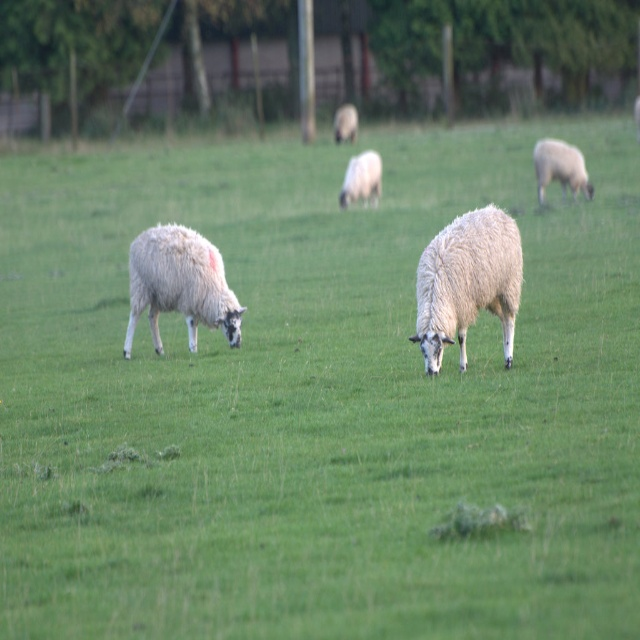Sheep: (407, 202, 525, 378), (124, 223, 249, 362), (533, 140, 593, 200), (338, 150, 381, 210), (334, 106, 357, 144)
